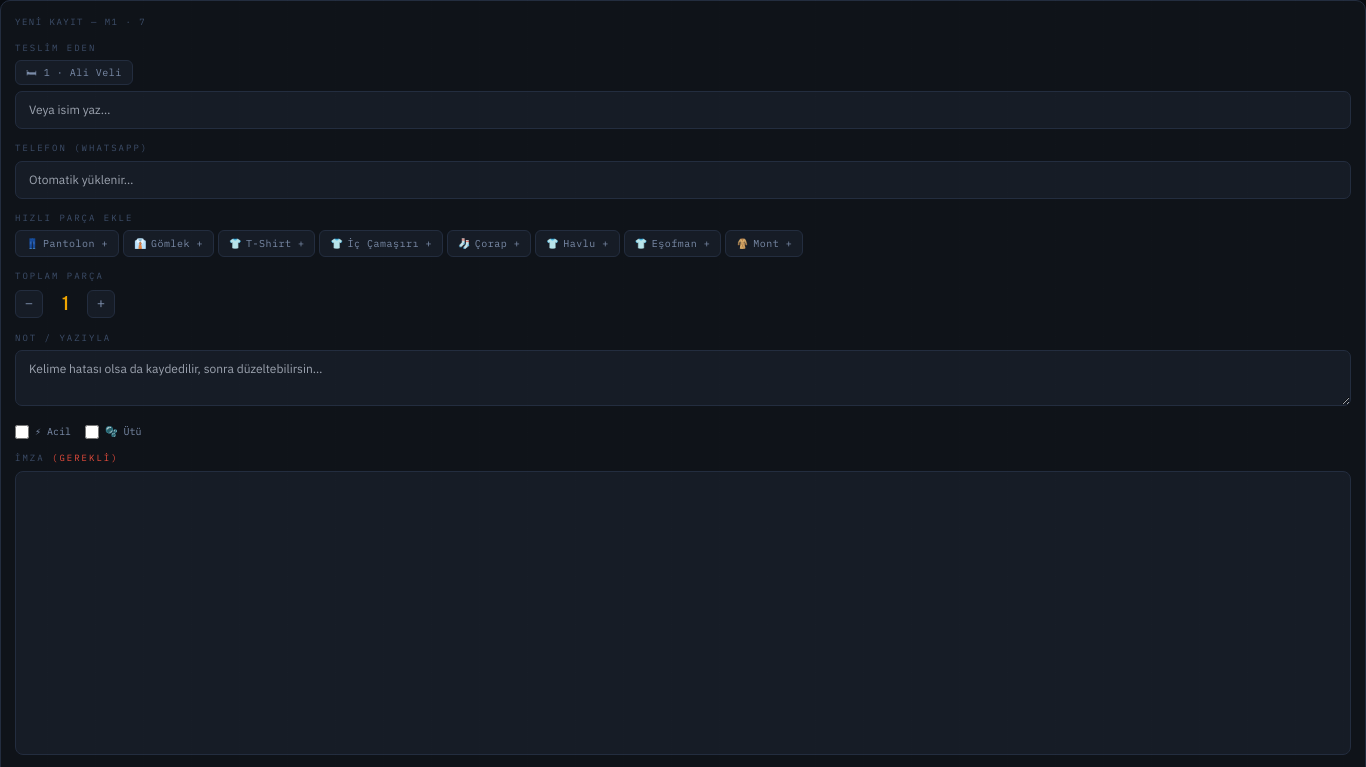
Test: InlineNewRecord smoke › teslim eden çipi tıklanınca isim alanına yazılır
Step 1. Click the button "🛏 1 · Ali Veli" → (74, 72), box x1=15 y1=60 x2=133 y2=85
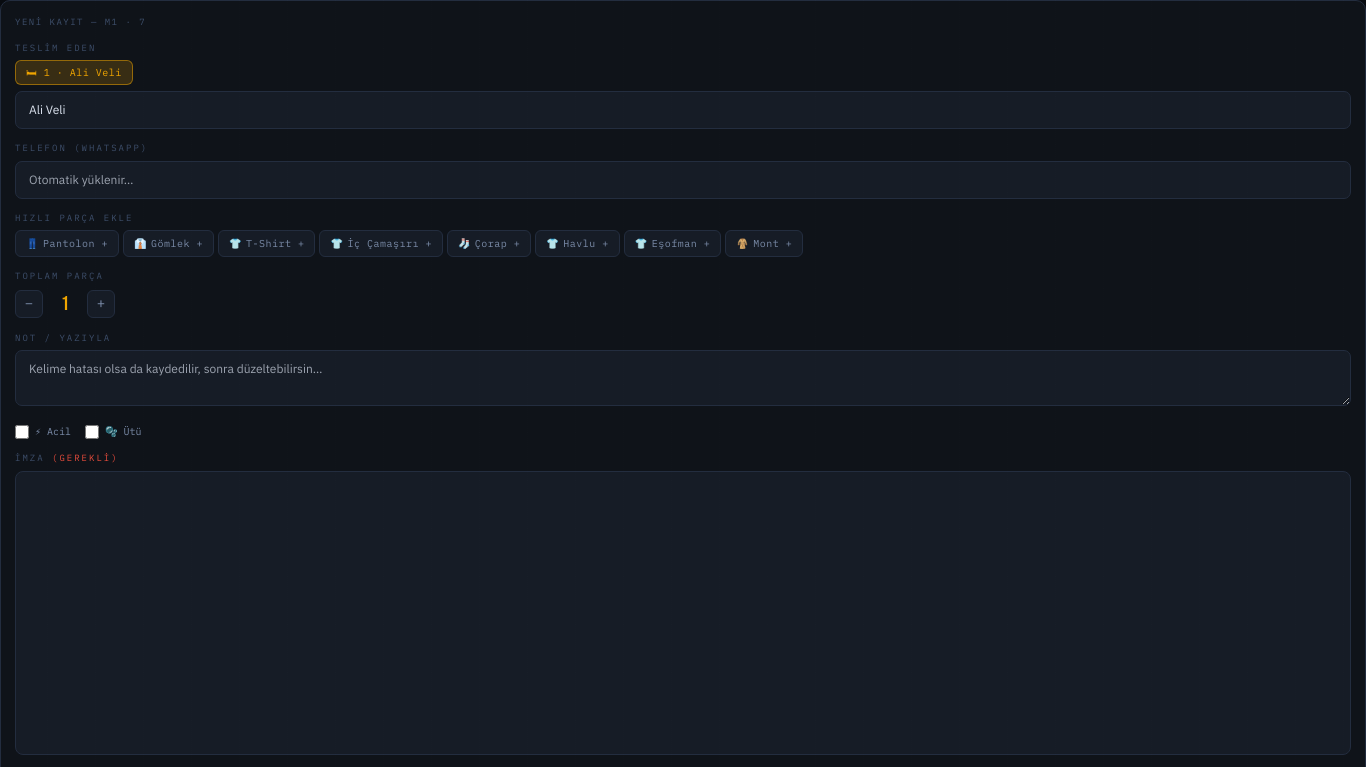
Expected: the field showing "Ali Veli" is shown, x1=15 y1=91 x2=1351 y2=129
